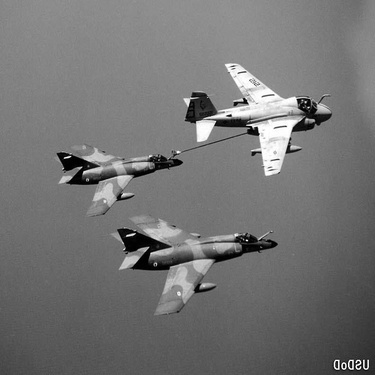airplane: (99, 209, 284, 317), (183, 58, 337, 179), (51, 134, 185, 219)
